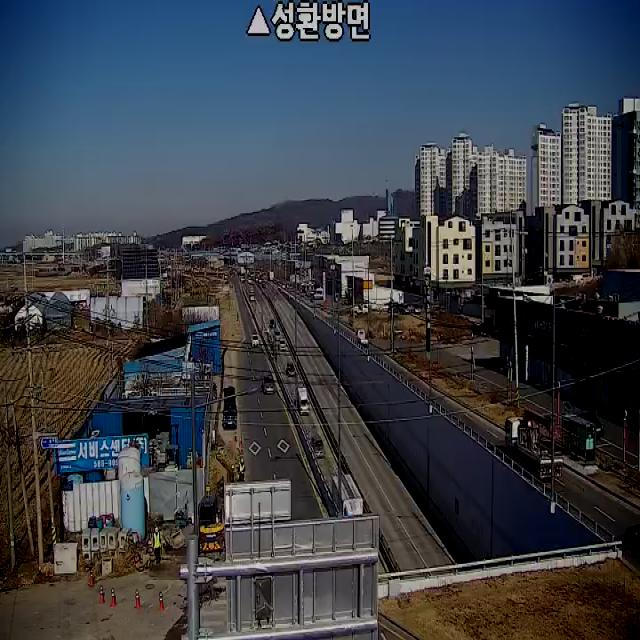Car: (573, 411, 604, 441), (223, 388, 237, 428), (625, 524, 640, 557), (308, 428, 324, 458), (296, 383, 310, 416), (262, 371, 275, 394), (356, 328, 368, 346), (251, 332, 260, 348), (286, 362, 296, 376), (279, 338, 287, 352), (274, 330, 281, 340), (270, 319, 276, 328)
Truck: (505, 410, 564, 478), (332, 474, 363, 518)
